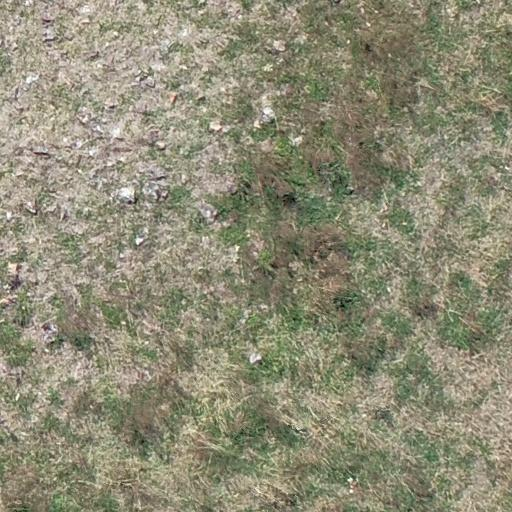stone: (214, 206, 240, 228), (5, 365, 25, 389), (116, 185, 137, 207), (255, 106, 277, 127), (40, 320, 59, 344), (197, 203, 219, 223), (136, 72, 159, 90), (142, 182, 162, 202), (266, 38, 288, 56), (91, 172, 108, 193), (41, 203, 58, 219), (134, 228, 149, 246), (0, 295, 17, 310), (238, 309, 252, 327), (42, 28, 56, 44), (24, 199, 38, 215), (208, 120, 224, 134), (59, 204, 71, 222), (147, 129, 161, 144), (12, 103, 28, 116), (248, 352, 262, 366), (225, 182, 239, 196), (289, 134, 303, 148), (87, 49, 101, 62), (33, 146, 51, 156), (110, 126, 122, 140), (78, 4, 93, 15), (78, 112, 91, 124), (178, 27, 190, 40), (70, 139, 84, 150), (41, 13, 54, 24), (25, 74, 39, 84), (104, 101, 116, 111), (155, 141, 167, 151), (88, 147, 99, 157), (345, 186, 355, 196), (6, 210, 14, 222), (196, 94, 206, 103), (346, 476, 354, 486), (233, 244, 241, 254), (14, 392, 20, 402), (365, 21, 372, 28)
